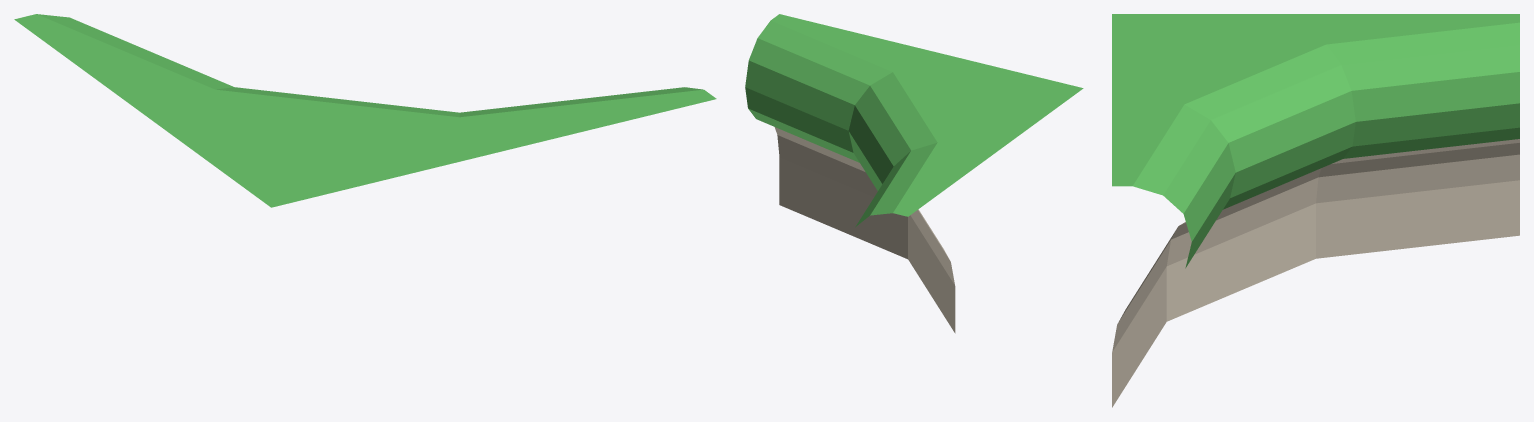
The model's file is Escarpment_Terrain_Corner_Inner_2x2_Top.glb.
3 views of the same model, side by side, from view 1: azimuth 30°, elevation 25°; view 2: azimuth 150°, elevation 25°; view 3: azimuth 270°, elevation 25° (orthographic). The views are drawn at different scales.
Parts seen in each view (by area): view 1: Escarpment_Terrain_Corner_Inner_2x2_Top; view 2: Escarpment_Terrain_Corner_Inner_2x2_Top; view 3: Escarpment_Terrain_Corner_Inner_2x2_Top.
Boxes of the visible parts, x1,y1,x2,y2 form: Escarpment_Terrain_Corner_Inner_2x2_Top: (14,14,716,207); Escarpment_Terrain_Corner_Inner_2x2_Top: (745,14,1083,333); Escarpment_Terrain_Corner_Inner_2x2_Top: (1112,14,1519,407).
Bounding box in the file's own units: 2 × 1.2 × 2.
